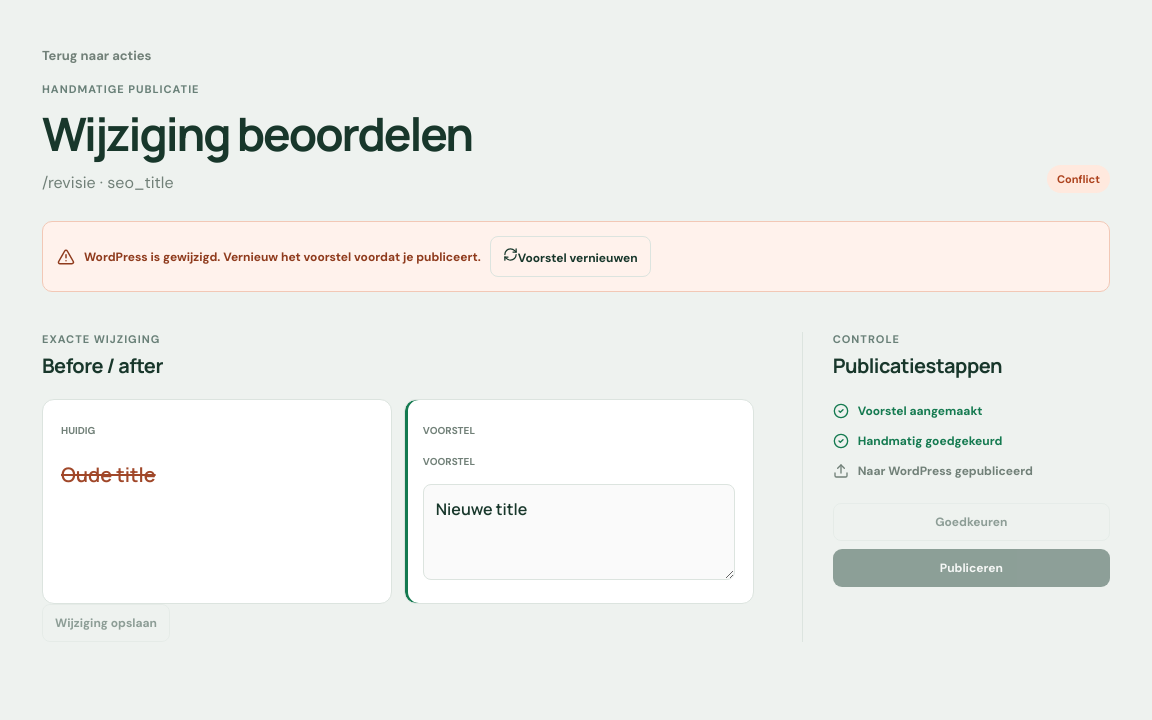
Test: PublishingReview › refreshes a conflicted proposal from WordPress
Click the button "Voorstel vernieuwen" at x=570, y=256, box [490,236,651,277]
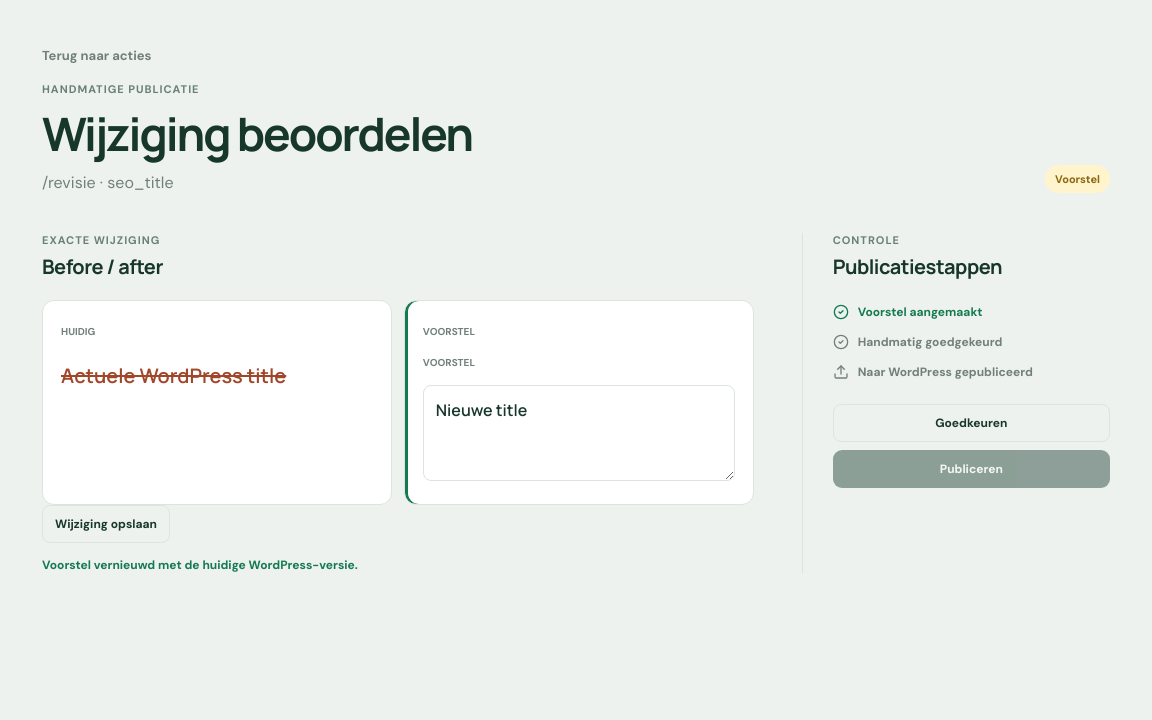
Expected: the text "Actuele WordPress title" is shown, [61,362,286,389]
